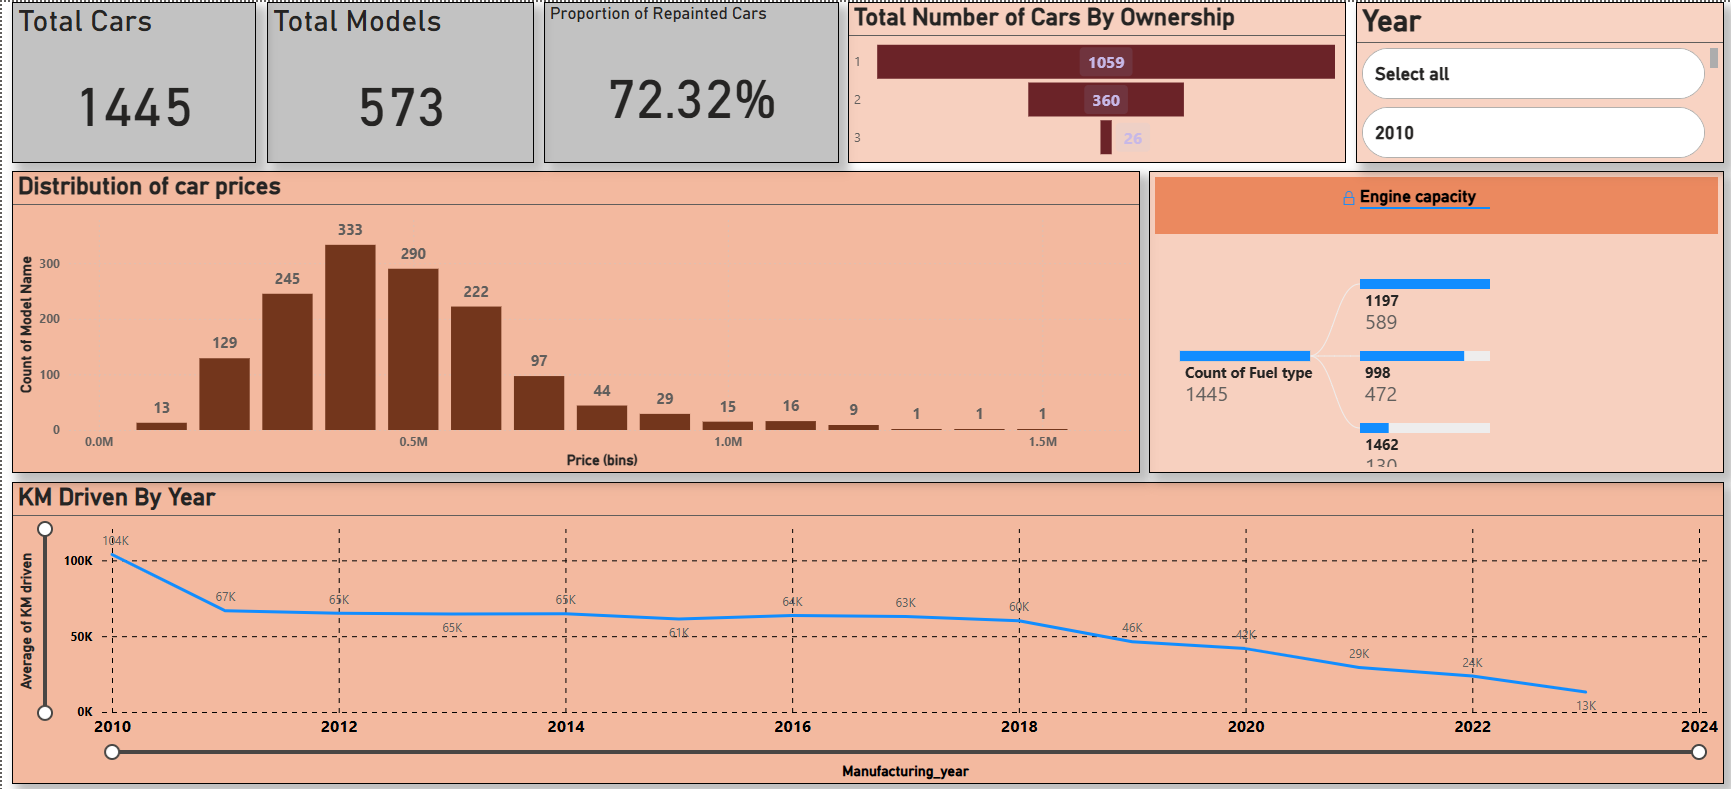

The page's visual inventory and layout, read from the dashboard file:
{"tool":"powerbi","page":{"name":"Overview Page","canvas":[1730,790],"ordinal":0},"visuals":[{"type":"card","title":"Total Models","fields":{"Values":["Count(cars24data.Model Name)"]},"box":[265,0,267,161],"z":0},{"type":"card","title":"Proportion of Repainted Cars","fields":{"Values":["cars24data.Proportion Repainted"]},"box":[542,0,295,161],"z":1000},{"type":"card","title":"Total Cars","fields":{"Values":["CountNonNull(cars24data.Model Name)"]},"box":[10,0,244,161],"z":2000},{"type":"lineChart","title":"KM Driven By Year","fields":{"Category":["cars24data.Manufacturing_year"],"Y":["Avg(cars24data.KM driven)"]},"box":[10,480,1712,302],"z":3000},{"type":"clusteredColumnChart","title":"Distribution of car prices","fields":{"Category":["cars24data.Price (bins)"],"Y":["CountNonNull(cars24data.Model Name)"]},"box":[10,169,1128,302],"z":4000},{"type":"funnel","title":"Total Number of Cars  By Ownership","fields":{"Category":["cars24data.Ownership"],"Y":["CountNonNull(cars24data.Model Name)"]},"box":[846,0,498,161],"z":5000},{"type":"decompositionTreeVisual","fields":{"ExplainBy":["cars24data.Engine capacity"],"Analyze":["CountNonNull(cars24data.Fuel type)"]},"box":[1147,169,575,302],"z":6000},{"type":"advancedSlicerVisual","title":"Year","fields":{"Values":["cars24data.Manufacturing_year"]},"box":[1354,0,368,161],"z":7000}]}

Visuals, with their boxes in screenshot pixels (x1, y1, x2, y2), scaled from the page's 1730x790 canvas onto the 1731x789 screenshot:
"Total Models" card: rect(265, 0, 532, 161)
"Proportion of Repainted Cars" card: rect(542, 0, 837, 161)
"Total Cars" card: rect(10, 0, 254, 161)
"KM Driven By Year" lineChart: rect(10, 479, 1723, 781)
"Distribution of car prices" clusteredColumnChart: rect(10, 169, 1139, 470)
"Total Number of Cars  By Ownership" funnel: rect(846, 0, 1345, 161)
decompositionTreeVisual - cars24data.Engine capacity x CountNonNull(cars24data.Fuel type): rect(1148, 169, 1723, 470)
"Year" advancedSlicerVisual: rect(1355, 0, 1723, 161)
